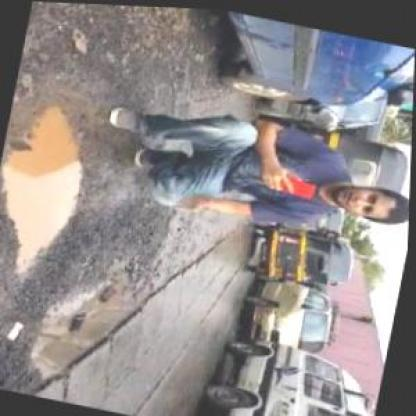pothole: (0, 94, 103, 287), (27, 248, 150, 397)
